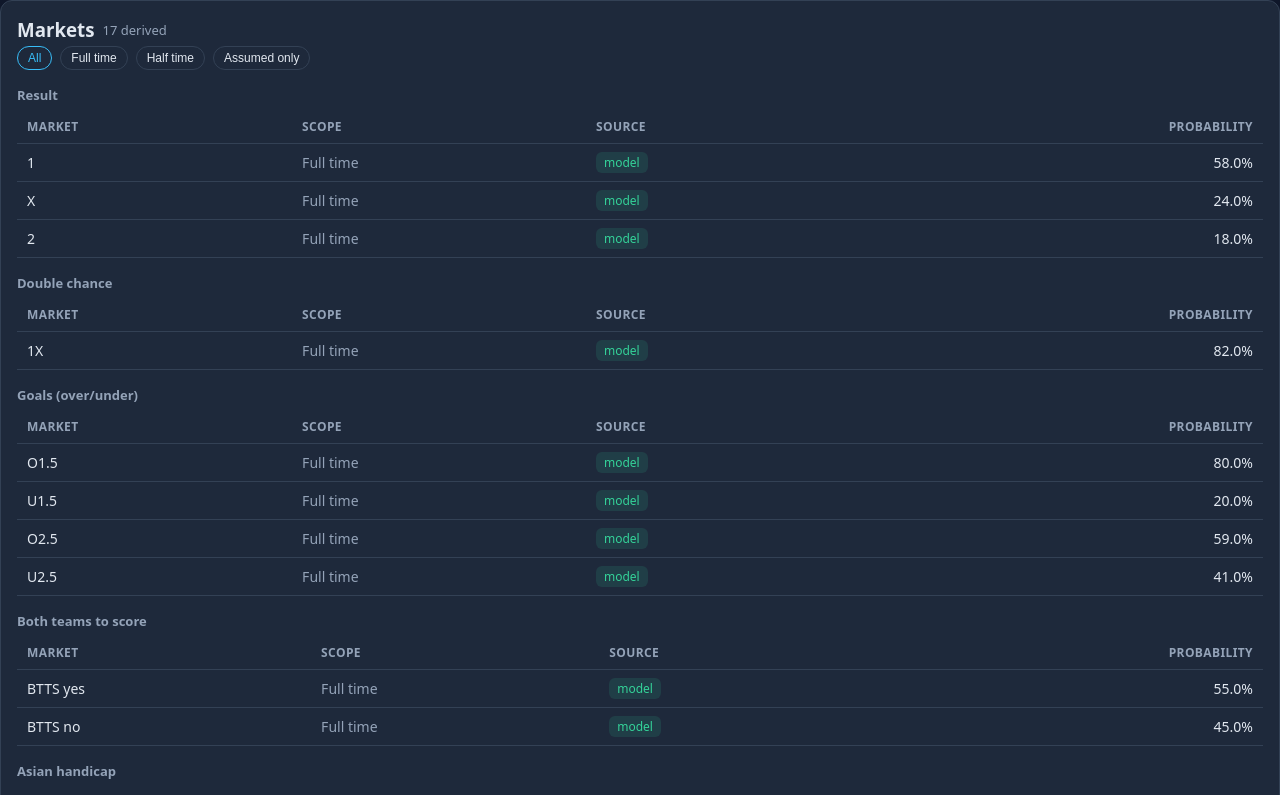
Test case: MarketTable › says so when a filter matches nothing
Click the button "Half time" at x=170, y=58, box [136,46,205,70]
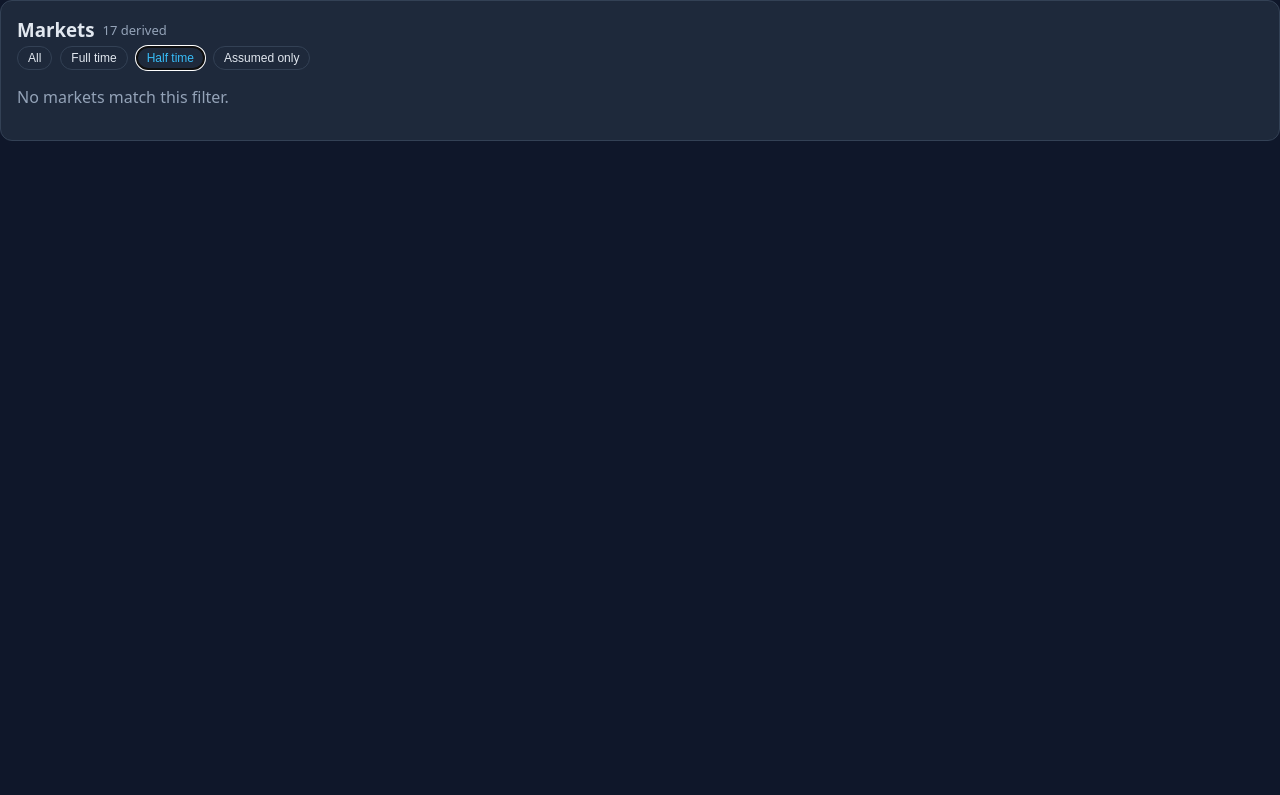
Expected: the text "No markets match this filter." is shown, [17,86,229,108]
